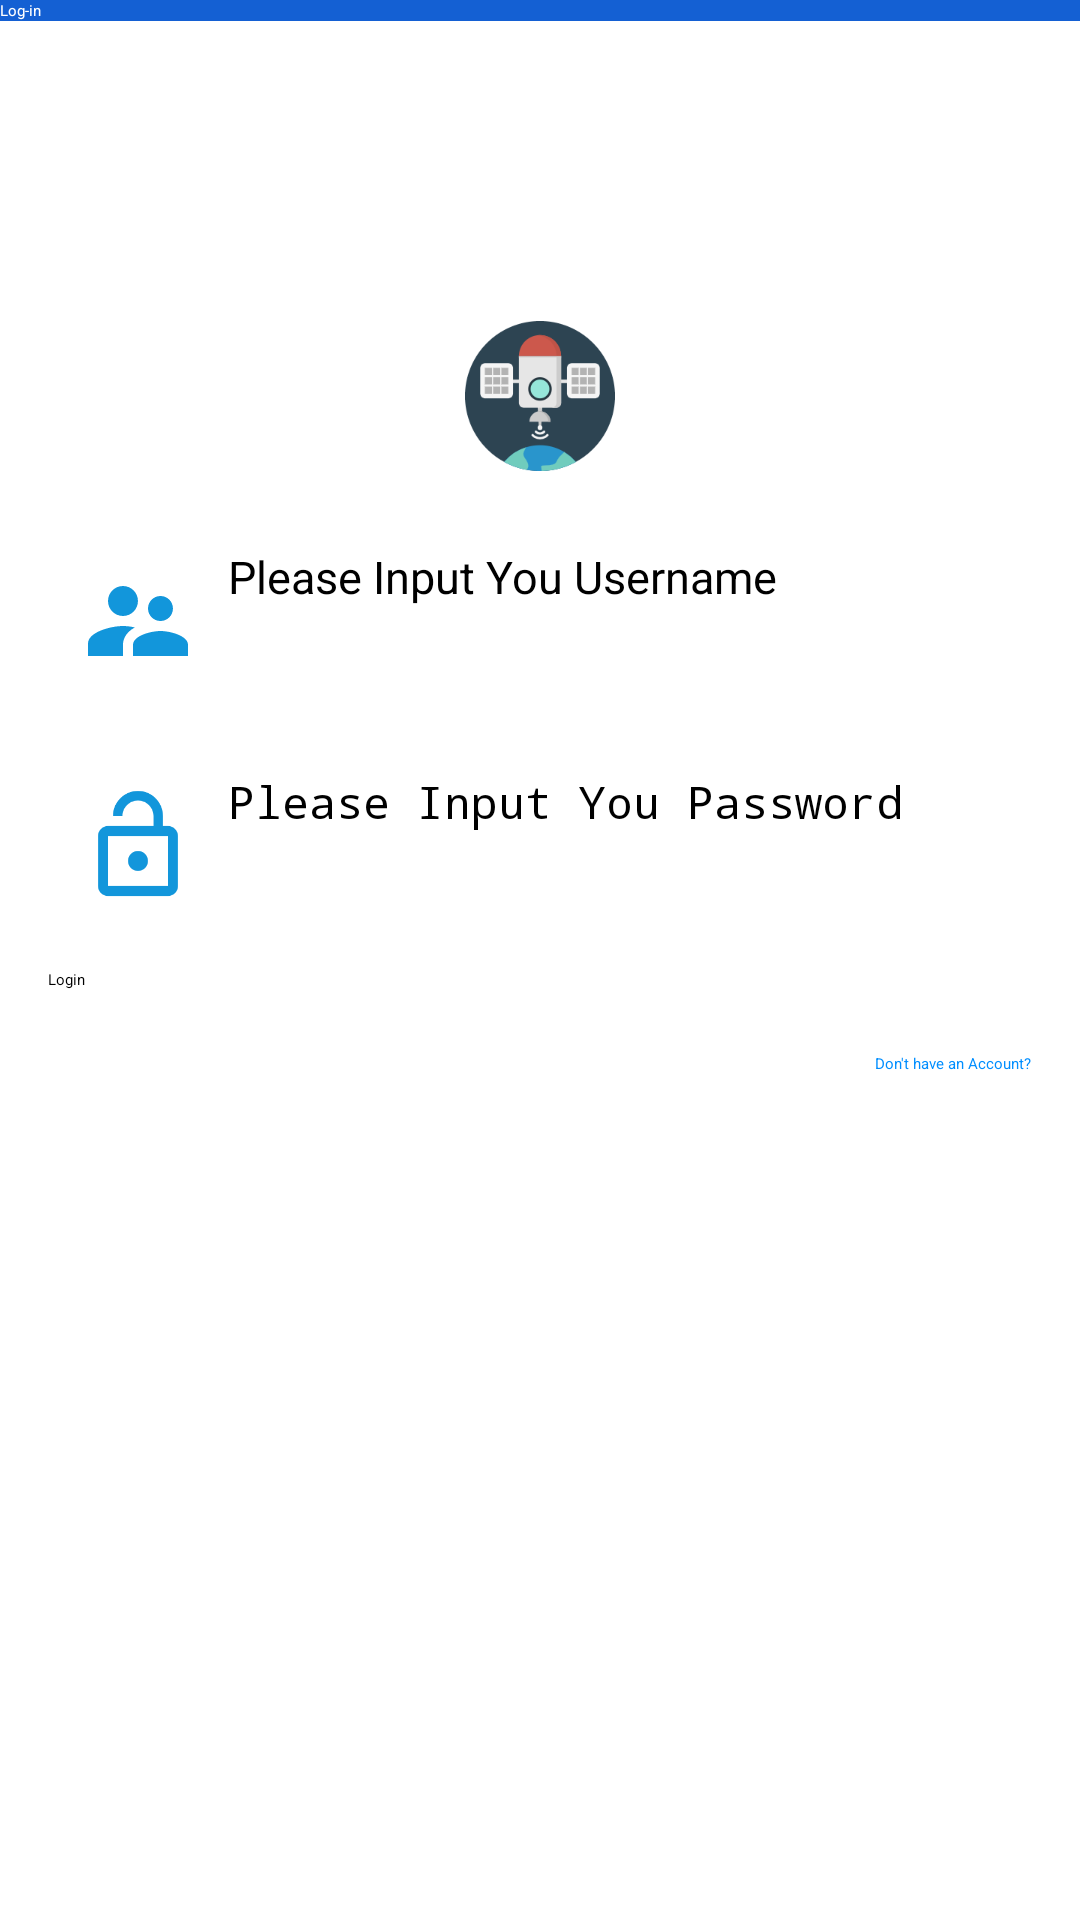

Icon bounding boxes for this 1080 × 1920 phone screenshot, format (x1, y1, x2, y2):
lock open: (98, 791, 178, 896)
supervisor account: (88, 586, 188, 656)
